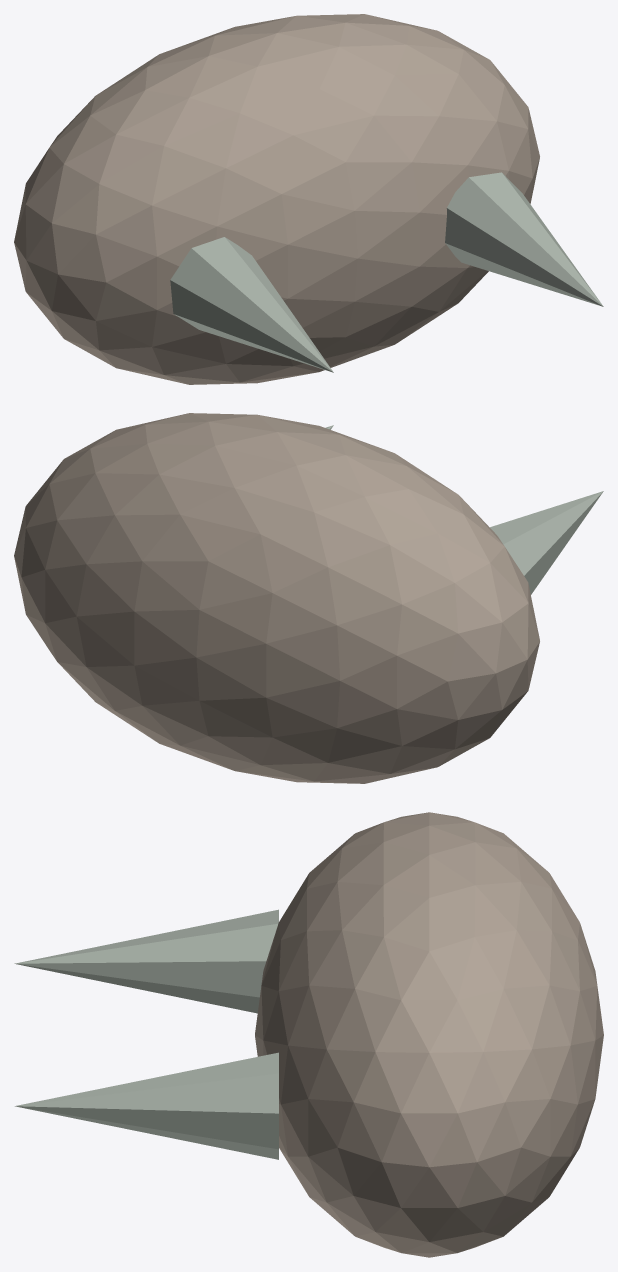
Rendered from 13_Ancient_Leviathan_Head.glb.
3 renders of one model, top to bottom at view 1: azimuth 30°, elevation 25°; view 2: azimuth 150°, elevation 25°; view 3: azimuth 270°, elevation 25°, orthographic. The views are drawn at different scales.
Visible parts, largest first — view 1: 13_Ancient_Leviathan_Head_00, 13_Ancient_Leviathan_Head_02, 13_Ancient_Leviathan_Head_03; view 2: 13_Ancient_Leviathan_Head_00, 13_Ancient_Leviathan_Head_02; view 3: 13_Ancient_Leviathan_Head_00, 13_Ancient_Leviathan_Head_03, 13_Ancient_Leviathan_Head_02.
Part boxes in pixels (box(x1,y1,x2,y2)): 13_Ancient_Leviathan_Head_00: box(14, 14, 539, 384); 13_Ancient_Leviathan_Head_02: box(170, 237, 333, 372); 13_Ancient_Leviathan_Head_03: box(445, 172, 603, 306); 13_Ancient_Leviathan_Head_00: box(14, 413, 539, 783); 13_Ancient_Leviathan_Head_02: box(490, 491, 603, 594); 13_Ancient_Leviathan_Head_00: box(255, 812, 603, 1257); 13_Ancient_Leviathan_Head_03: box(14, 1052, 278, 1159); 13_Ancient_Leviathan_Head_02: box(14, 909, 278, 1013).
Size of the model in its own units: 5.2 by 3.3 by 4.9.
